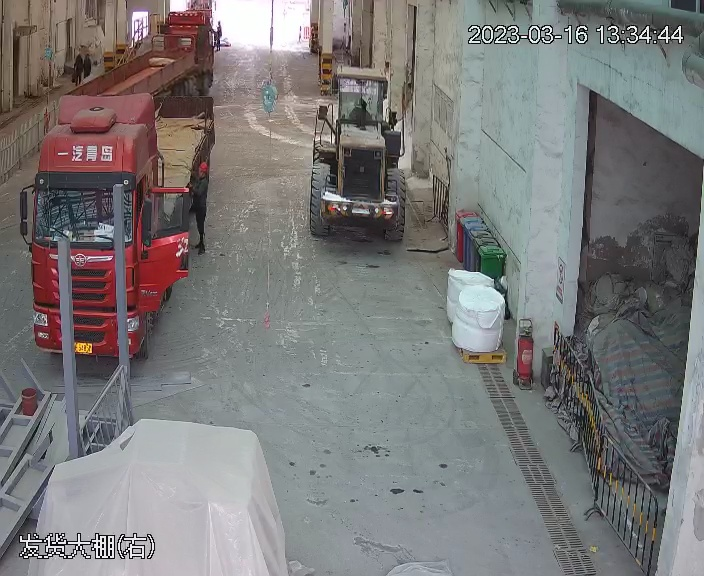people: (63, 5, 216, 120), (73, 52, 84, 85), (215, 19, 224, 51), (83, 53, 94, 78)
truck: (22, 92, 223, 358)
